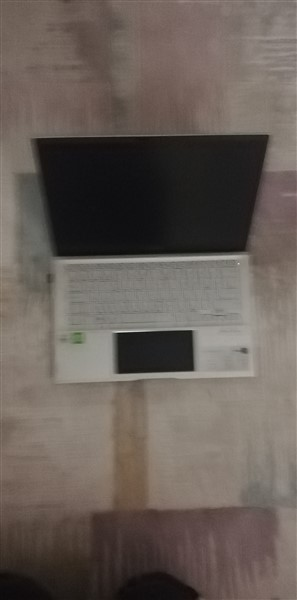laptop: (29, 138, 266, 384)
